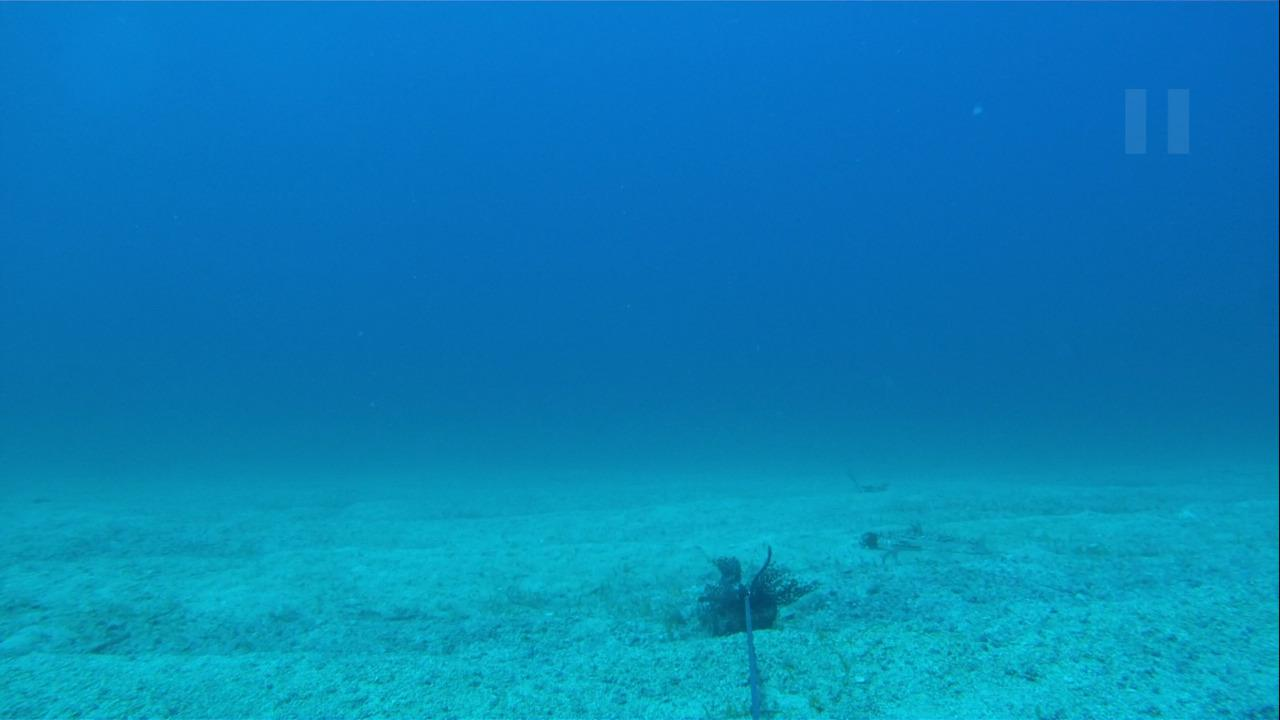dactylopterus: (853, 517, 1008, 570)
